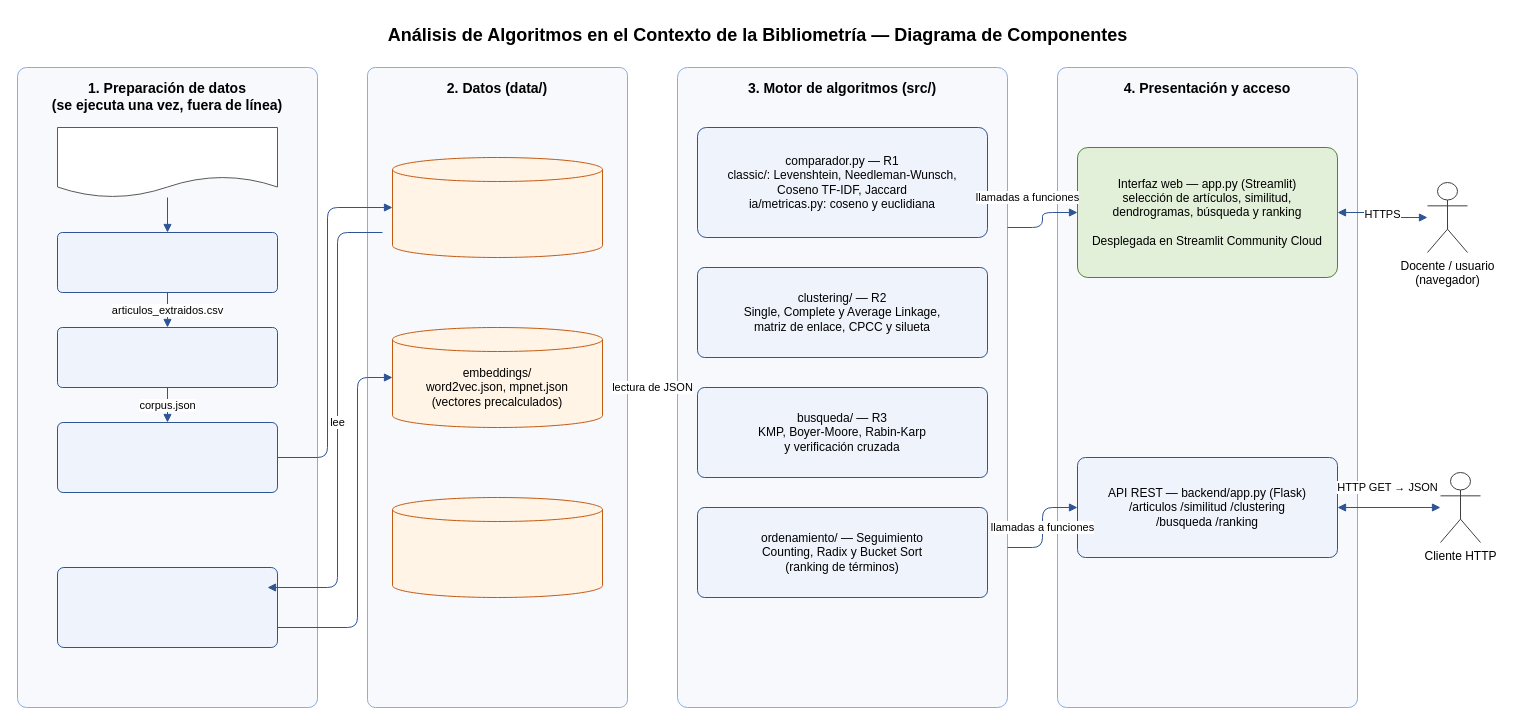
Image size: 1515x725. Some labels were removed from this diagram. Each missing label, with the centre of its shape:
"20 artículos científicos (PDF) data/raw/" belongs at (x=167, y=162).
"corpus_preprocesado.json (20 abstracts originales y preprocesados)" belongs at (x=497, y=207).
"csv_json.py (CSV → data/corpus.json)" belongs at (x=167, y=357).
"extraer_datos.py (pypdf: título, autores, abstract)" belongs at (x=167, y=262).
"ia/embeddings_w2v.py (gensim) ia/embeddings_llm.py (sentence-transformers)" belongs at (x=167, y=607).
"matriz_distancias_clustering.json (1 − coseno TF-IDF)" belongs at (x=497, y=547).
"preprocessing.py (NLTK) minúsculas, tokens, stopwords, lematización" belongs at (x=167, y=457).
